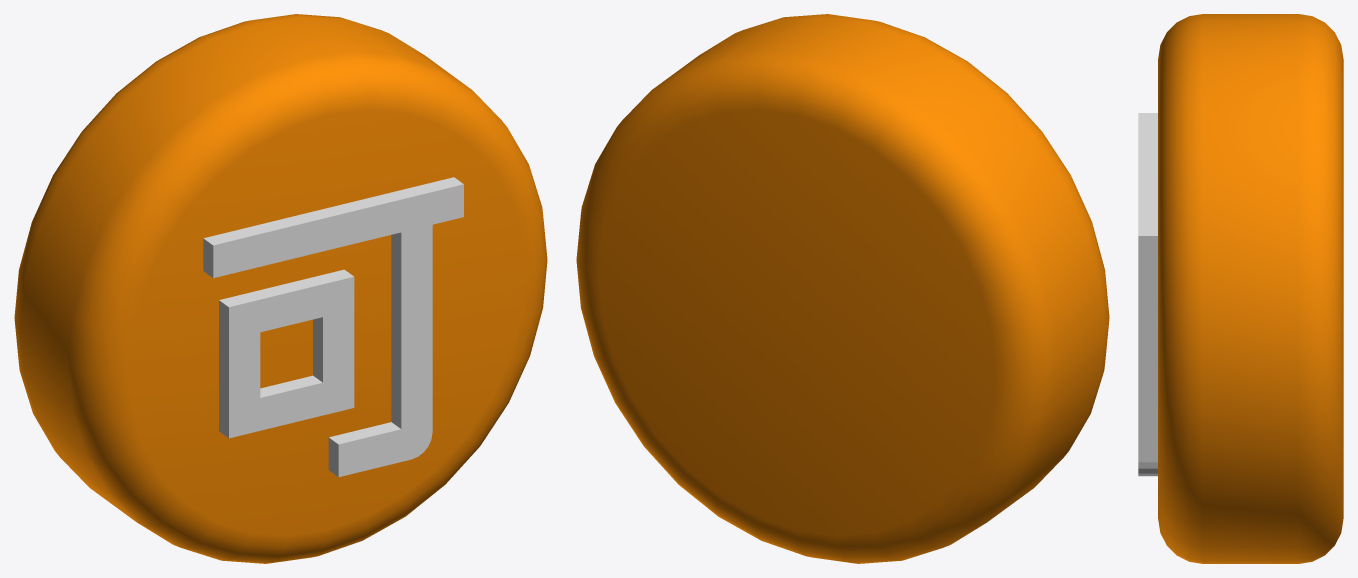
File: japanese_acceptable_button.gltf
3 renders of one model, left to right at view 1: azimuth 30°, elevation 25°; view 2: azimuth 150°, elevation 25°; view 3: azimuth 270°, elevation 25°, orthographic.
Visible parts, largest first — view 1: Circle.2650, Plane.357; view 2: Circle.2650; view 3: Circle.2650, Plane.357.
Boxes of the visible parts, x1=… form: Circle.2650: x1=14, y1=14, x2=547, y2=563; Plane.357: x1=203, y1=177, x2=463, y2=477; Circle.2650: x1=576, y1=14, x2=1109, y2=563; Circle.2650: x1=1158, y1=14, x2=1343, y2=563; Plane.357: x1=1138, y1=113, x2=1157, y2=476.
Bounding box in the file's own units: 1.96 × 1.96 × 0.73.
Materials: 1 (1 with a texture image).
